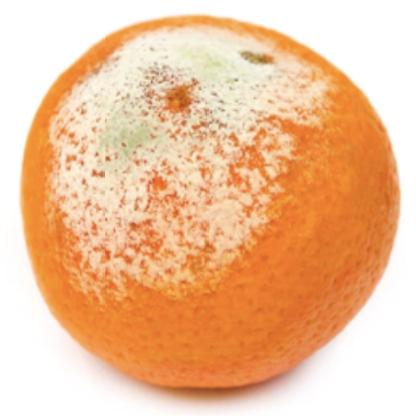rotten: (20, 15, 401, 392)
